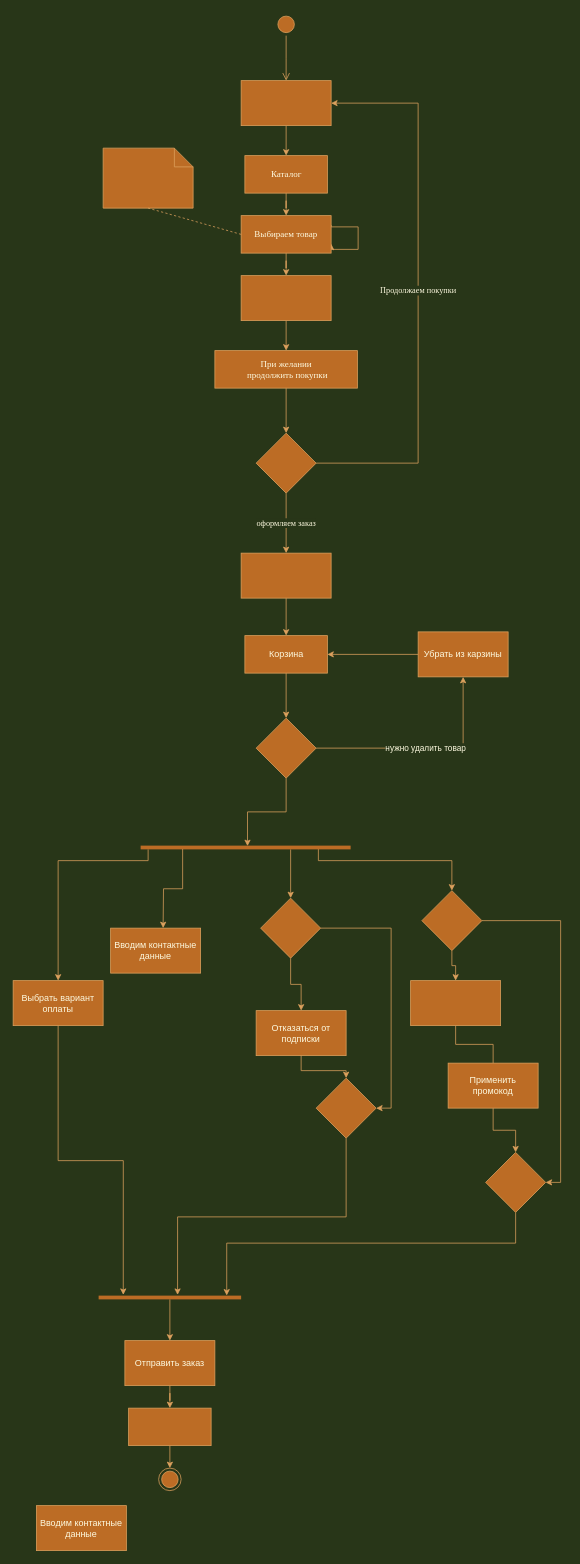
Image size: 580x1564. Some labels were removed from this diagram. Each missing label, with the centre of its shape:
Ввести промокод: point 455,1003
Добавить в корзину: point 285,298
Зайти в каталог: point 285,103
Используем гид по размеру: point 147,177
Оформить заказ: point 285,575
Сообщение об завершенной процедуре: point 169,1426
